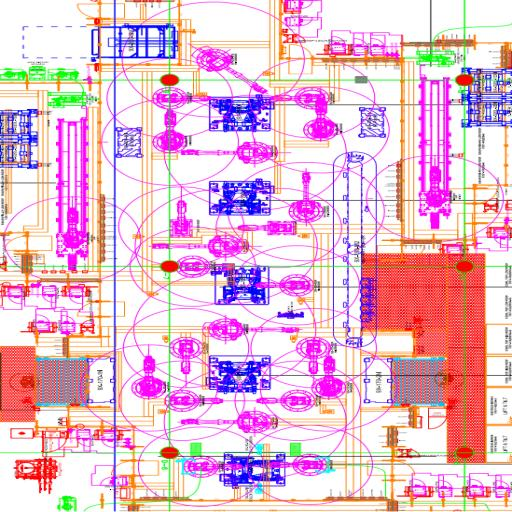robot: (188, 41, 274, 97), (175, 408, 280, 438), (203, 316, 302, 343), (287, 168, 325, 222), (302, 93, 343, 142), (149, 108, 192, 152), (309, 354, 350, 398), (259, 450, 332, 474), (129, 355, 168, 398), (180, 456, 252, 478), (255, 271, 316, 296), (171, 257, 238, 276), (168, 200, 198, 236)
